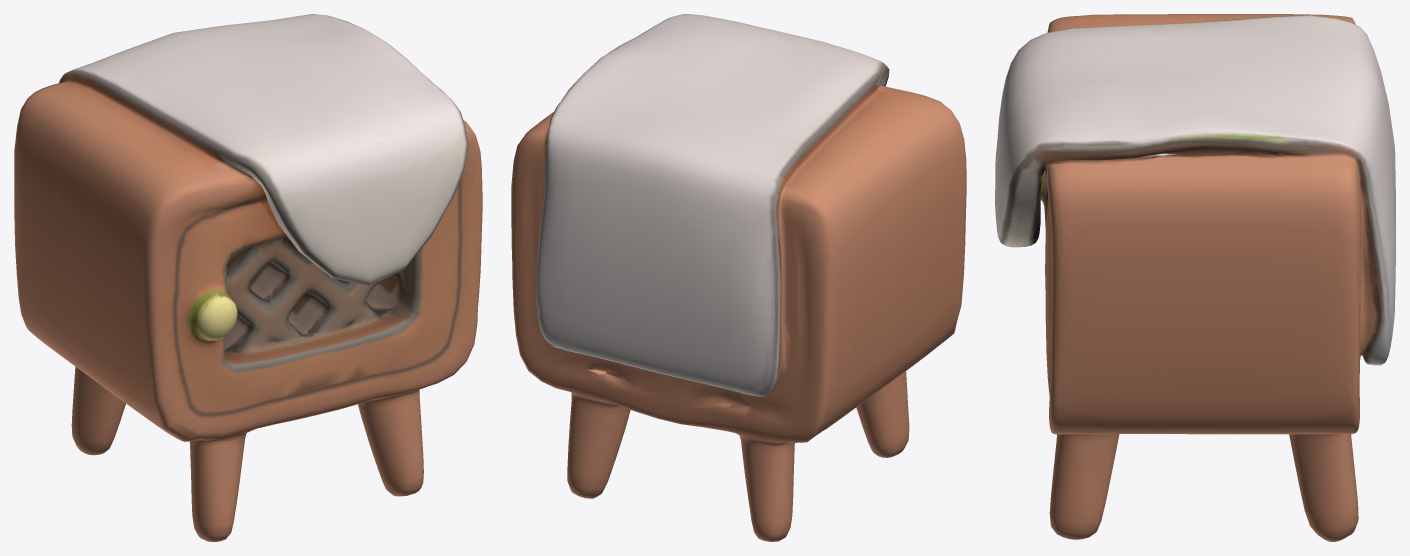
The model's file is Cabinet.glb.
3 renders of one model, left to right at view 1: azimuth 30°, elevation 25°; view 2: azimuth 150°, elevation 25°; view 3: azimuth 270°, elevation 25°, orthographic. The views are drawn at different scales.
Visible parts, largest first — view 1: Mesh_0; view 2: Mesh_0; view 3: Mesh_0.
Part boxes in pixels (bbox=[...]): Mesh_0: bbox=[14, 14, 482, 541]; Mesh_0: bbox=[511, 14, 966, 541]; Mesh_0: bbox=[995, 14, 1395, 541].
Size of the model in its own units: 1.66 by 1.91 by 1.59.
1 material, 1 textured.
